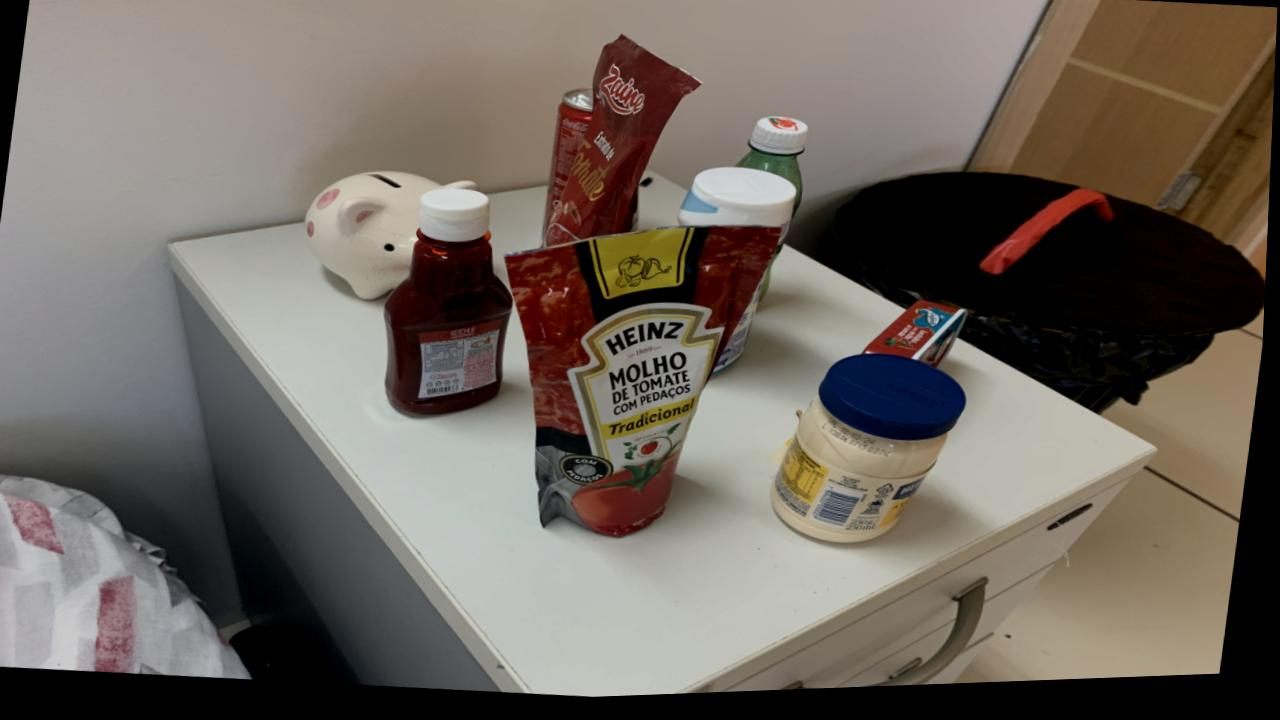Cleaner-Cleanup_Items: (679, 172, 798, 241), (716, 267, 774, 379), (772, 161, 777, 165)
Coke-Drinks: (545, 93, 595, 240)
Guarana-Drinks: (738, 122, 810, 221)
Ketchup-Pantry_Items: (386, 191, 515, 419)
Mayonnaise-Pantry_Items: (775, 361, 970, 549)
Pig_Safe-Miscellaneous: (306, 174, 481, 302)
Tomato_Sauce-Pantry_Items: (507, 231, 783, 541), (548, 41, 701, 249)
Tuna_Can-Pantry_Items: (868, 308, 970, 375)
